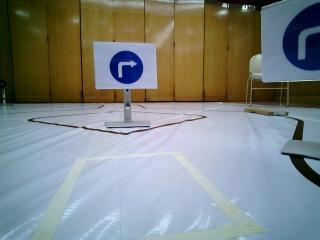right: (265, 5, 319, 79), (95, 43, 155, 92)
